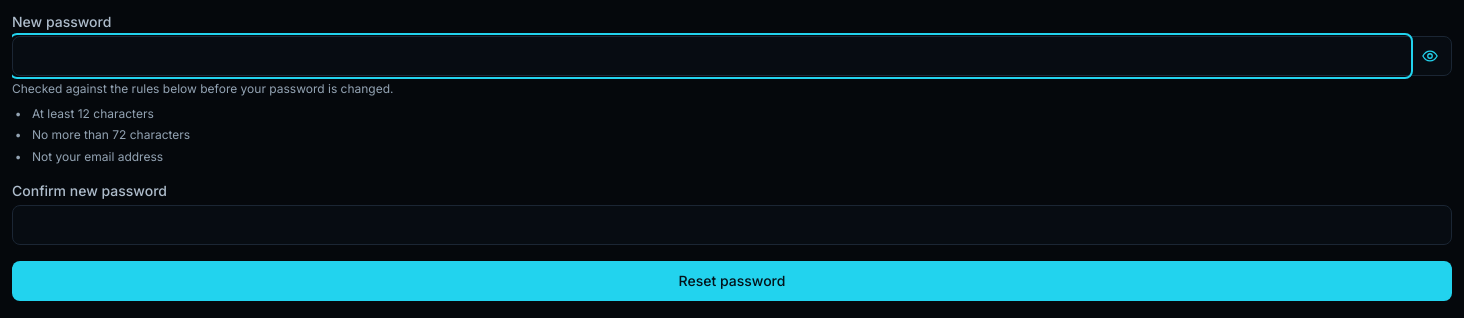
Scenario: the screen › hides both passwords until asked, and names which way the control moves them
This screenshot has width=1464, height=318.
Click the button named "Show password". click: (1430,56)
box: 1413,37 -> 1447,75
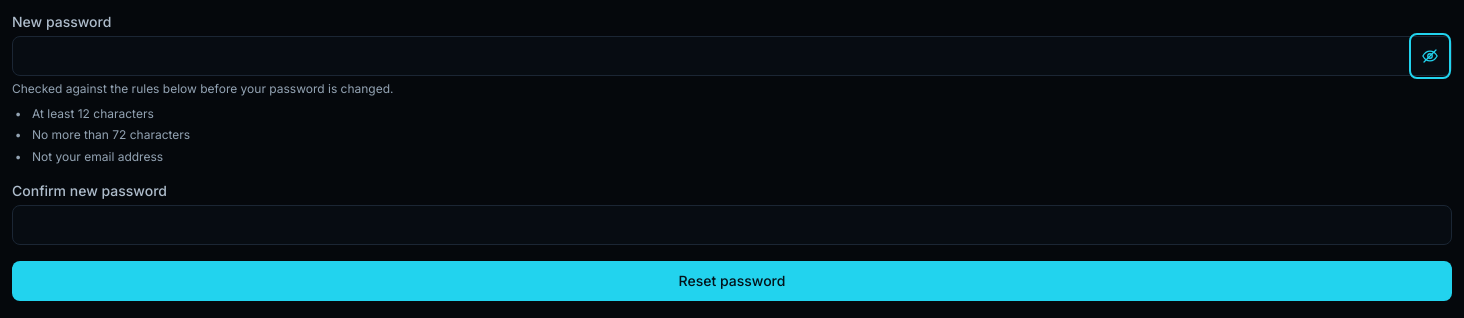
Expected: the button named "Hide password" is shown, 1413,37 -> 1447,75
